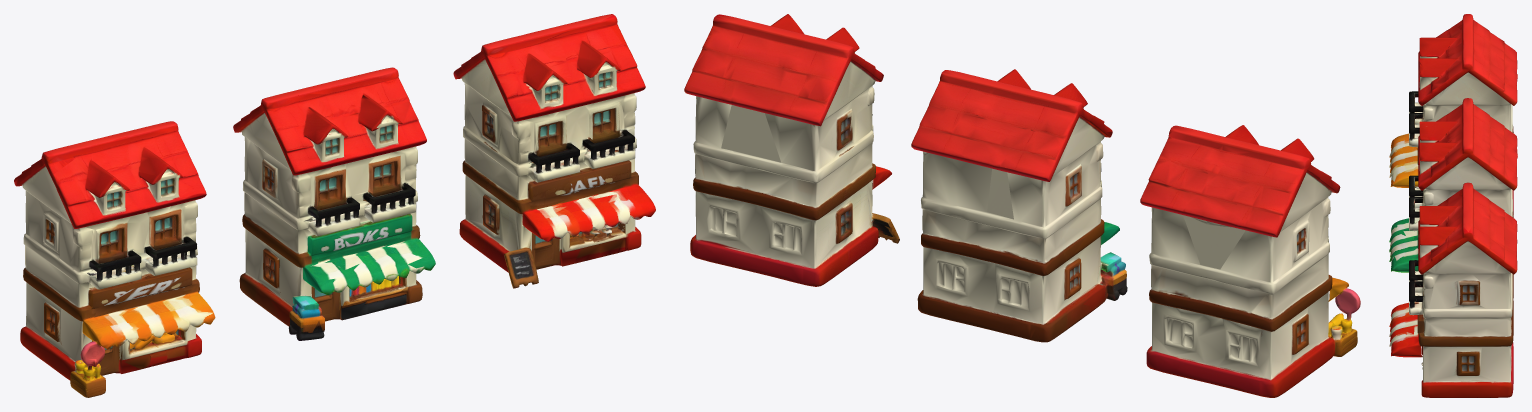
Rendered from row_petit.glb.
3 views of the same model, side by side, from view 1: azimuth 30°, elevation 25°; view 2: azimuth 150°, elevation 25°; view 3: azimuth 270°, elevation 25° (orthographic). The views are drawn at different scales.
Parts seen in each view (by area): view 1: mesh_node; view 2: mesh_node; view 3: mesh_node.
Part boxes in pixels (box(x1,y1,x2,y2)): mesh_node: box(14, 14, 655, 397); mesh_node: box(684, 14, 1360, 397); mesh_node: box(1389, 14, 1517, 397).
Bounding box in the file's own units: 1.9 × 0.6717 × 0.4667.
Materials: 1 (1 with a texture image).
